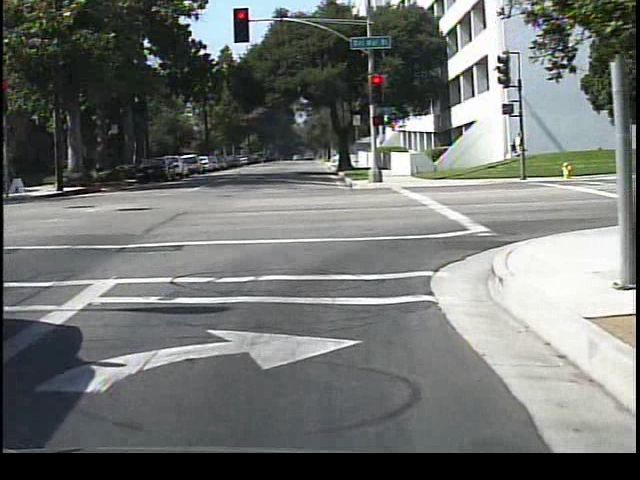person: (502, 128, 526, 174)
